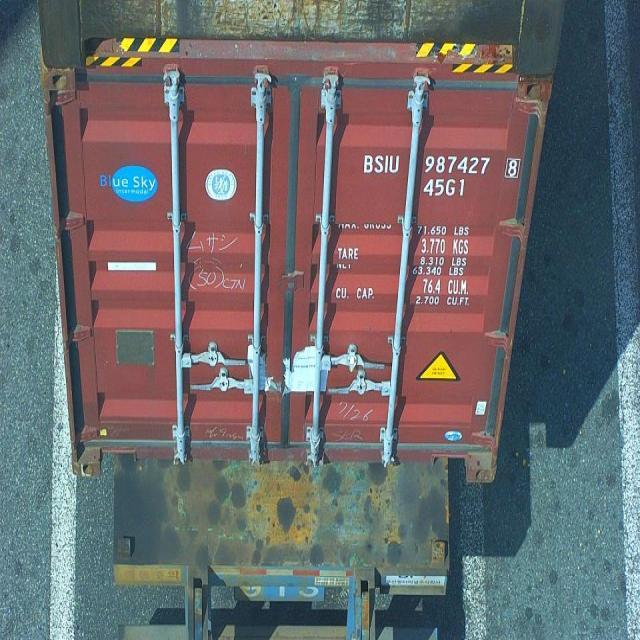ISO: (424, 177, 466, 197)
container_number: (370, 151, 524, 176)
